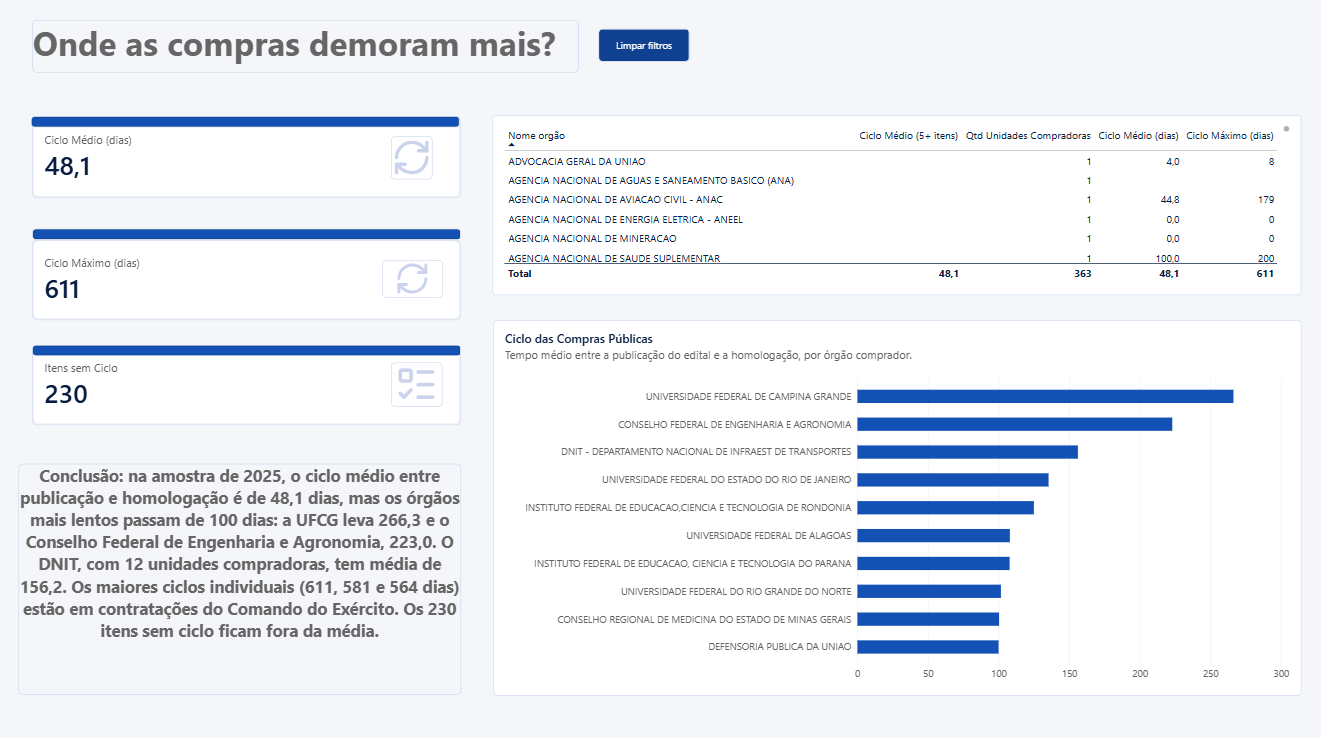

This screenshot's page, from the dashboard's own definition file:
{"tool":"powerbi","page":{"name":" Tempo do ciclo de compras","canvas":[1920,1080],"ordinal":3},"visuals":[{"type":"textbox","box":[52.5,36.2,790.8,76],"z":0},{"type":"clusteredBarChart","title":"Ciclo das Compras Públicas","fields":{"Category":["dim_orgao.nome_orgao"],"Y":["Medida.Ciclo Médio (5+ itens)"]},"box":[720.2,469.8,1169.2,544.3],"z":1000},{"type":"cardVisual","fields":{"Data":["Medida.Ciclo Médio (dias)"]},"box":[51.7,174.8,620.3,118.2],"z":2000},{"type":"cardVisual","fields":{"Data":["Medida.Ciclo Máximo (dias)"]},"box":[51.7,354.5,620.3,115.7],"z":3000},{"type":"cardVisual","fields":{"Data":["Medida.Itens sem Ciclo"]},"box":[51.7,507.1,620.3,115.7],"z":4000},{"type":"textbox","box":[32,678.9,640.8,334.4],"z":5000},{"type":"tableEx","fields":{"Values":["dim_orgao.nome_orgao","Medida.Ciclo Médio (5+ itens)","Medida.Qtd Unidades Compradoras","Medida.Ciclo Médio (dias)","Medida.Ciclo Máximo (dias)"]},"box":[718.1,173.8,1171.3,260.7],"z":6000},{"type":"image","box":[572.7,204.3,60.1,62.1],"z":7000},{"type":"image","box":[558.7,384.5,88.1,54.1],"z":8000},{"type":"image","box":[572.7,532.7,74.1,64.1],"z":9000},{"type":"shape","box":[52.5,506.7,620.7,16.3],"z":10000},{"type":"shape","box":[52.5,338.4,620.7,16.3],"z":11000},{"type":"shape","box":[50.7,175.5,620.7,16.3],"z":12000},{"type":"actionButton","box":[872.3,48.9,132,48],"z":13000}]}

Visuals, with their boxes in screenshot pixels (x1, y1, x2, y2), scaled from the page's 1920x1080 canvas onto the 1321x738 screenshot:
textbox: <bbox>36, 25, 580, 77</bbox>
"Ciclo das Compras Públicas" clusteredBarChart: <bbox>496, 321, 1300, 693</bbox>
cardVisual - Medida.Ciclo Médio (dias): <bbox>36, 119, 462, 200</bbox>
cardVisual - Medida.Ciclo Máximo (dias): <bbox>36, 242, 462, 321</bbox>
cardVisual - Medida.Itens sem Ciclo: <bbox>36, 347, 462, 426</bbox>
textbox: <bbox>22, 464, 463, 692</bbox>
tableEx - dim_orgao.nome_orgao x Medida.Ciclo Médio (5+ itens): <bbox>494, 119, 1300, 297</bbox>
image: <bbox>394, 140, 435, 182</bbox>
image: <bbox>384, 263, 445, 300</bbox>
image: <bbox>394, 364, 445, 408</bbox>
shape: <bbox>36, 346, 463, 357</bbox>
shape: <bbox>36, 231, 463, 242</bbox>
shape: <bbox>35, 120, 462, 131</bbox>
actionButton: <bbox>600, 33, 691, 66</bbox>
